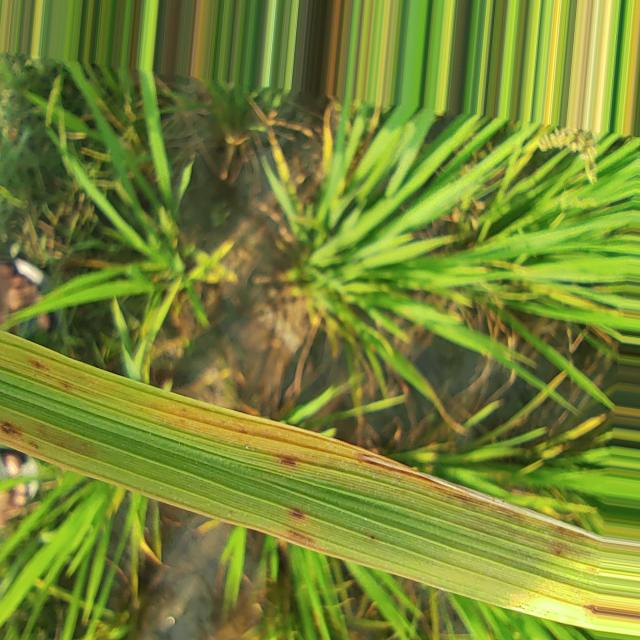Brown_Spot: (0, 420, 22, 448), (290, 507, 305, 524), (279, 455, 298, 468), (30, 360, 45, 370), (366, 532, 378, 542)
